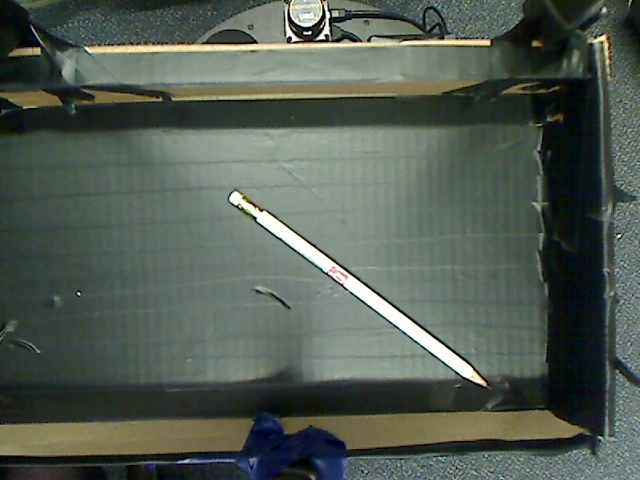pencil: (228, 174, 502, 393)
